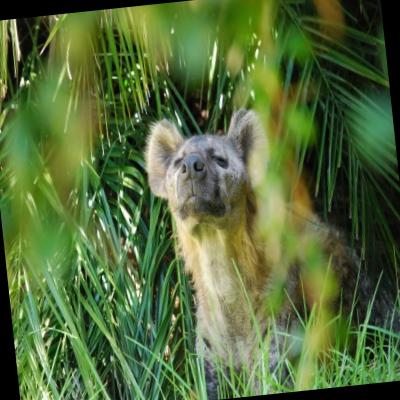hyenas: (111, 75, 310, 400)
